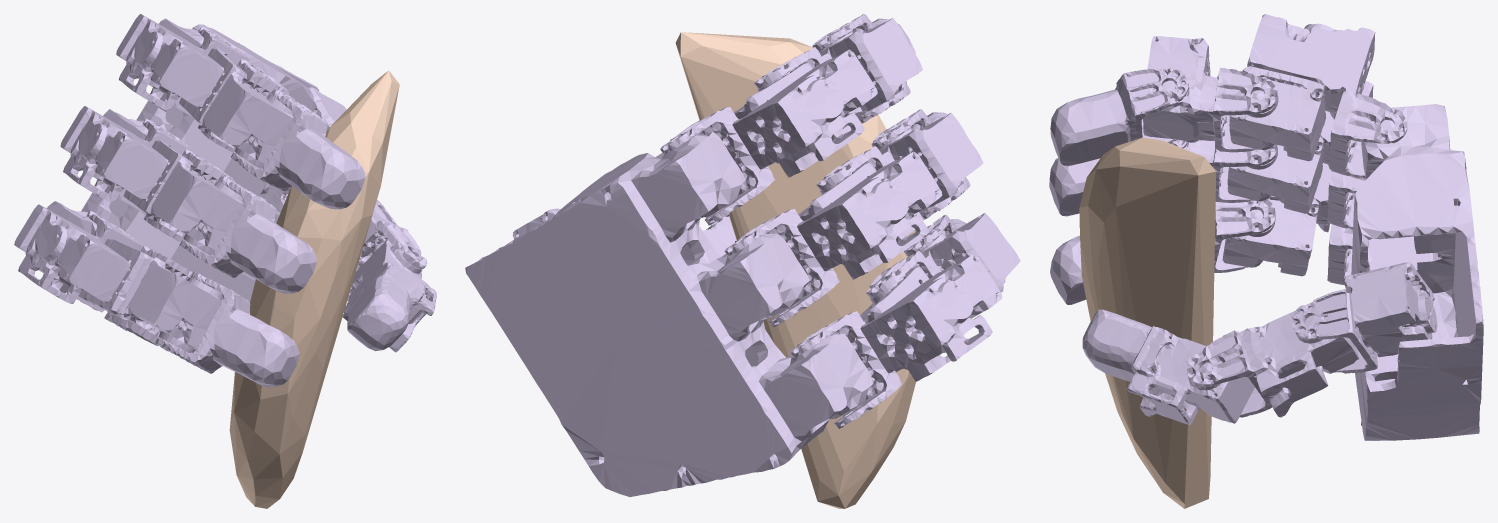
File: f20f01d3c5b06d-closed.glb
The picture shows the model from 3 angles, left to right: view 1: azimuth 30°, elevation 25°; view 2: azimuth 150°, elevation 25°; view 3: azimuth 270°, elevation 25°; orthographic projection. The views are drawn at different scales.
Visible parts, largest first — view 1: LEAP_hand, world; view 2: LEAP_hand, world; view 3: LEAP_hand, world.
Part boxes in pixels (bbox=[...]): LEAP_hand: bbox=[14, 14, 436, 387]; world: bbox=[229, 70, 399, 508]; LEAP_hand: bbox=[465, 14, 1020, 496]; world: bbox=[675, 32, 915, 508]; LEAP_hand: bbox=[1049, 14, 1483, 440]; world: bbox=[1079, 137, 1216, 508].
Size of the model in its own units: 0.1814 by 0.2087 by 0.1746.
